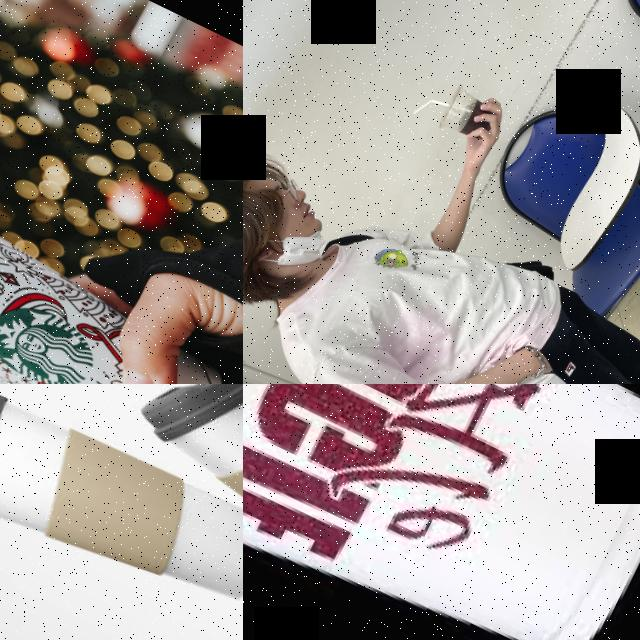cup: (243, 384, 640, 640), (0, 384, 243, 636), (0, 152, 243, 384), (116, 384, 243, 612), (436, 80, 504, 148)
